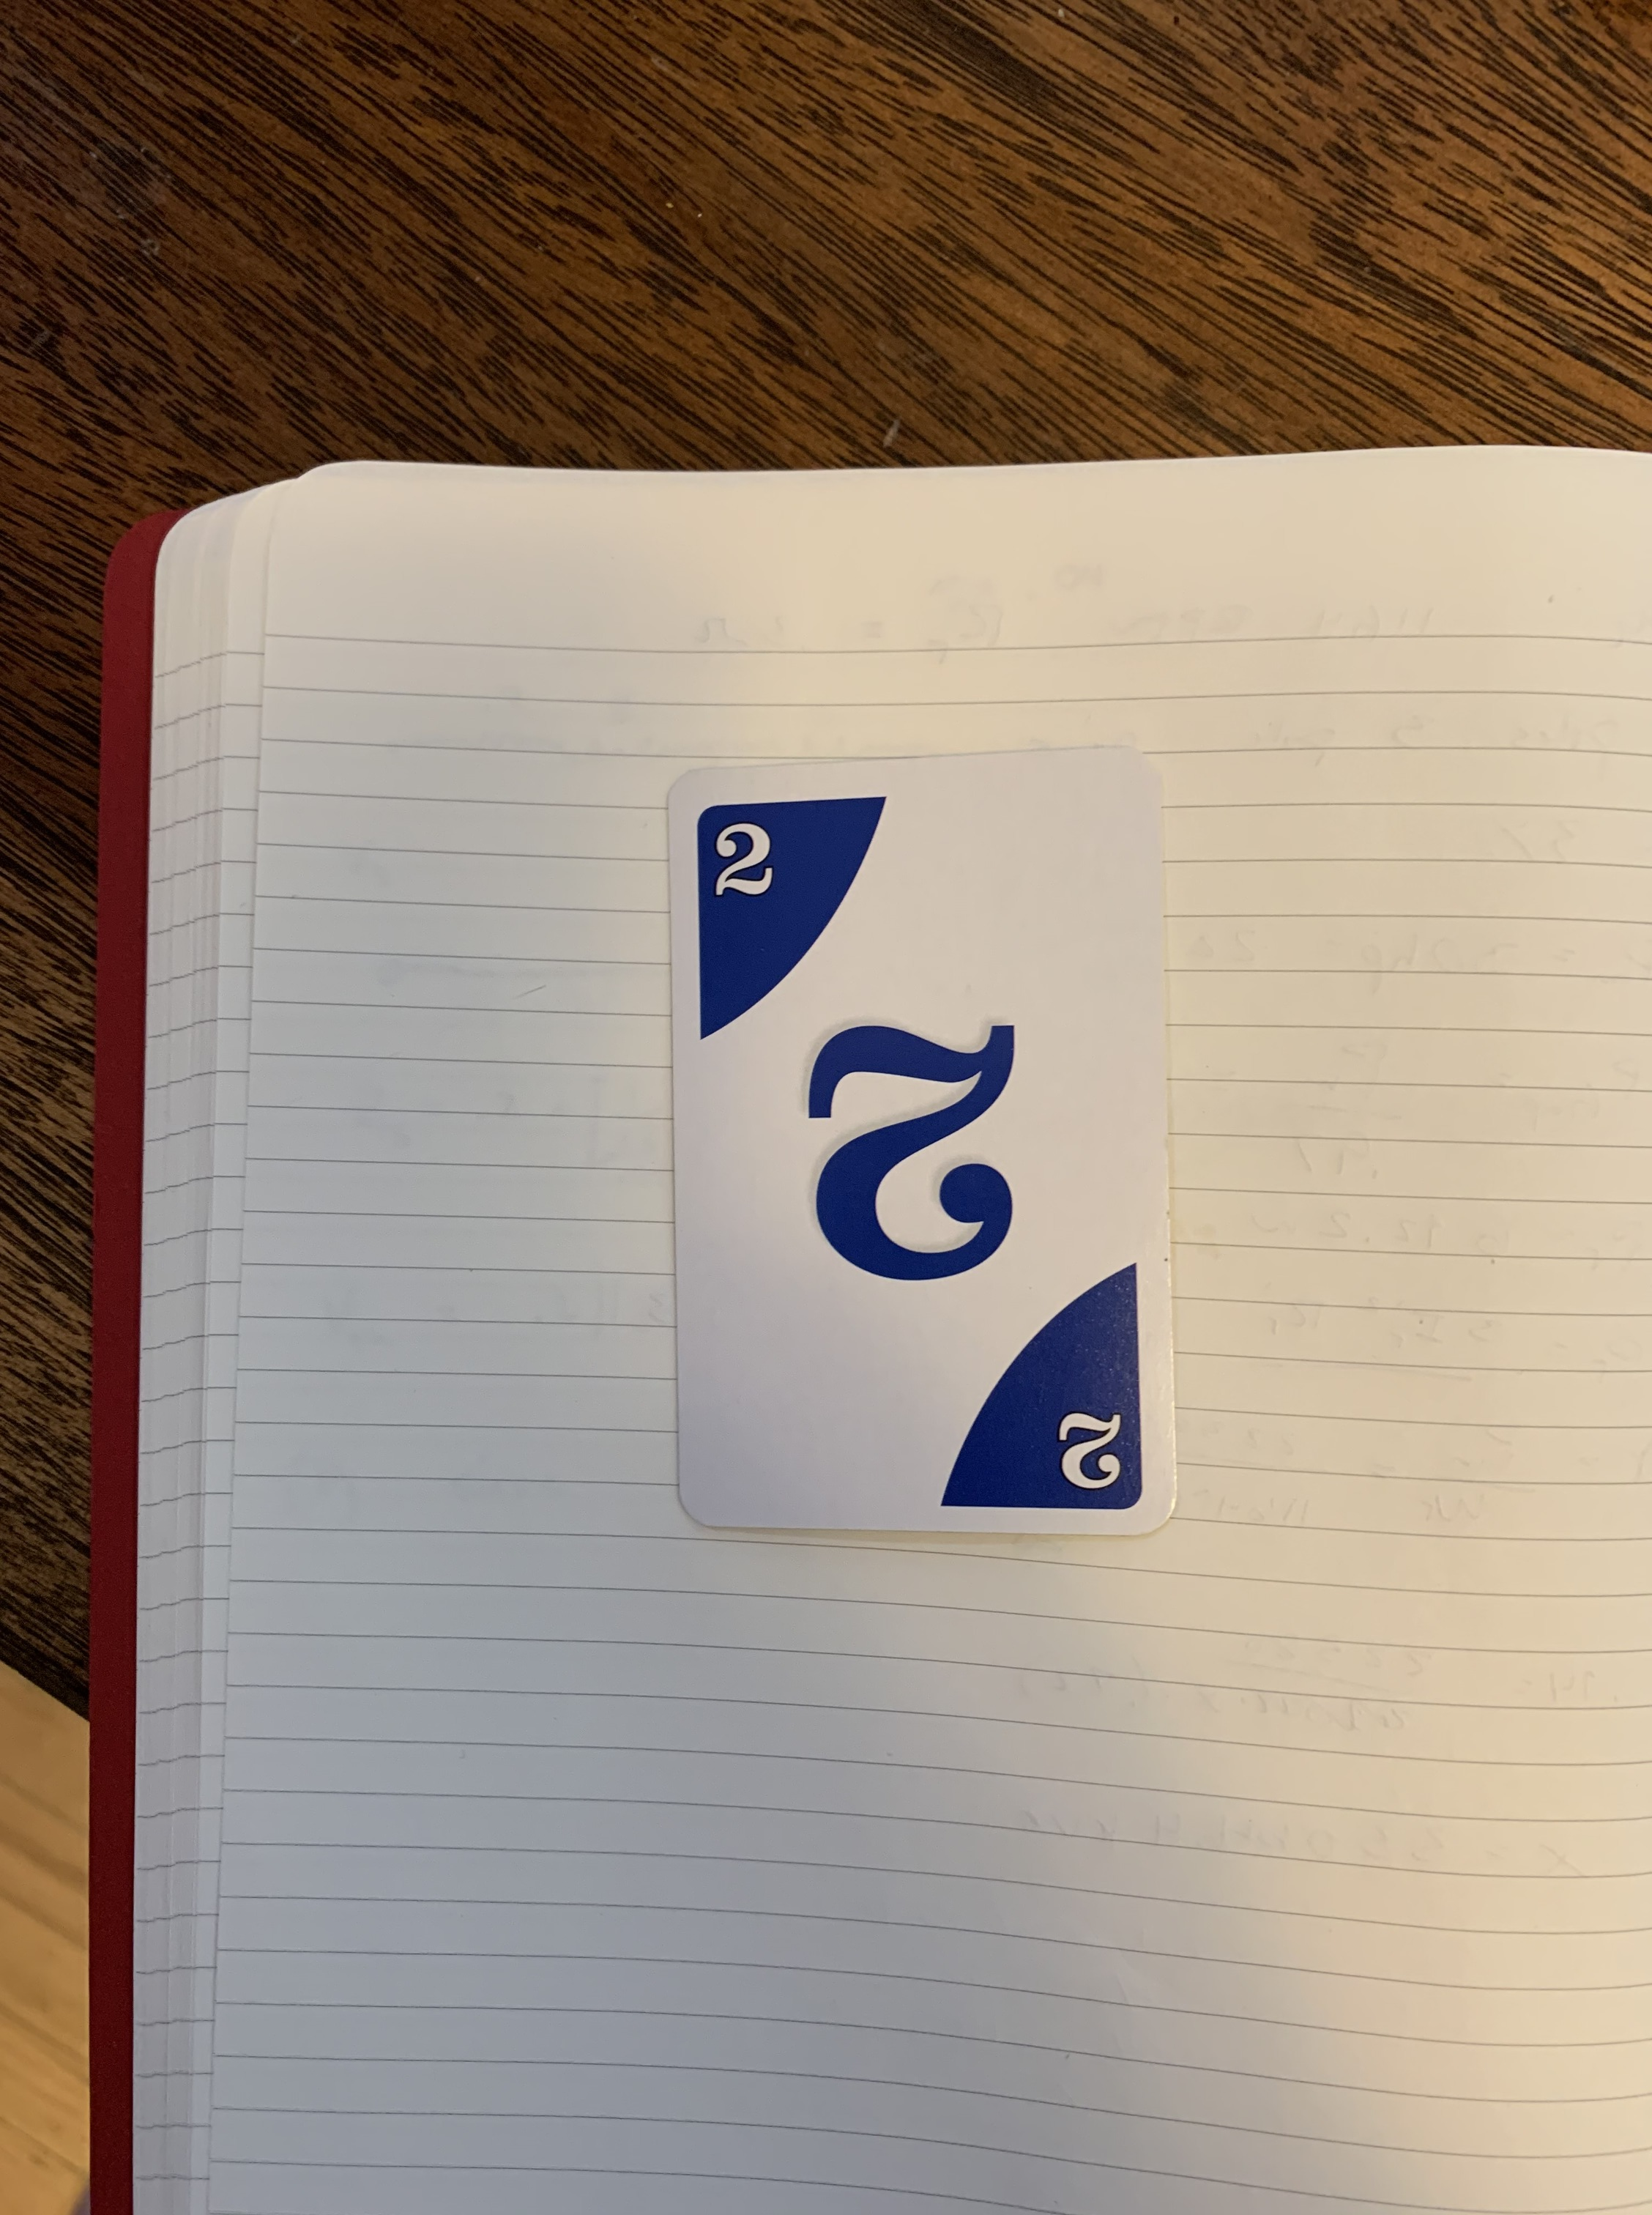two: (658, 757, 1189, 1559)
